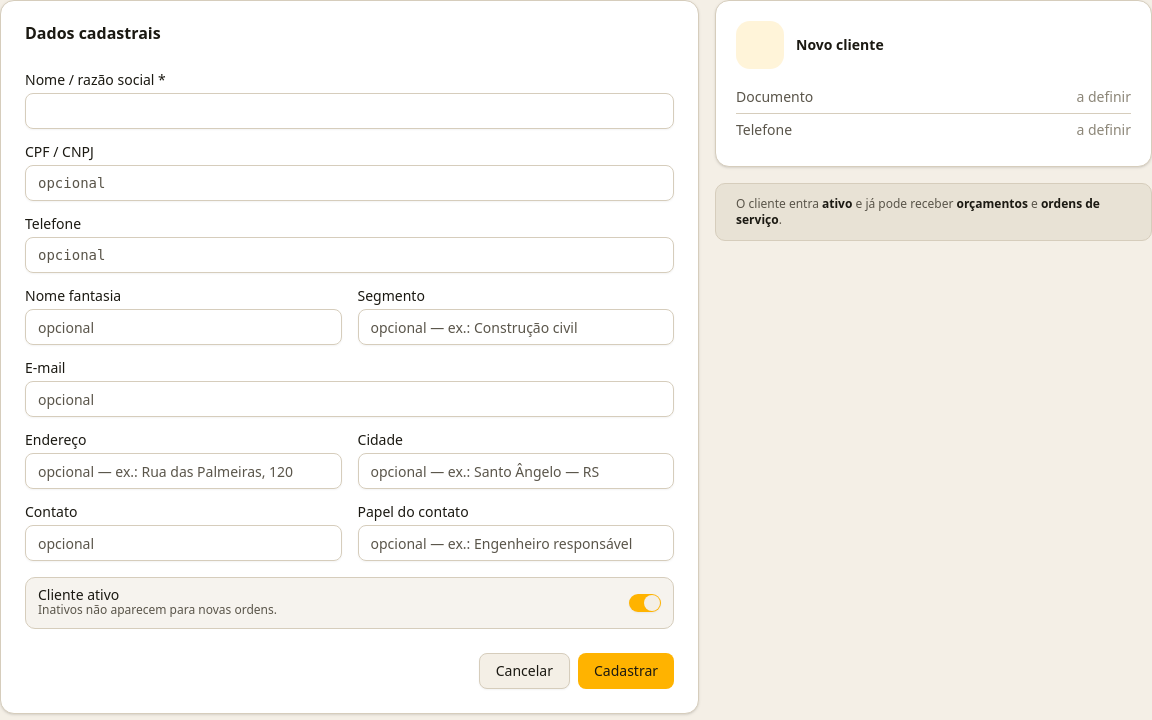
Test: ClienteForm › na criação mostra o resumo ao vivo e atualiza ao digitar
Expected: the text "Novo cliente" is shown, [796,35,884,55]
Expected: the text "a definir" is shown 2 times, [1076,87,1131,107]; [1076,120,1131,140]
Type "Construtora Vale Verde" into the field labelled "Nome / razão social *" at (350, 111), box [25,93,674,129]
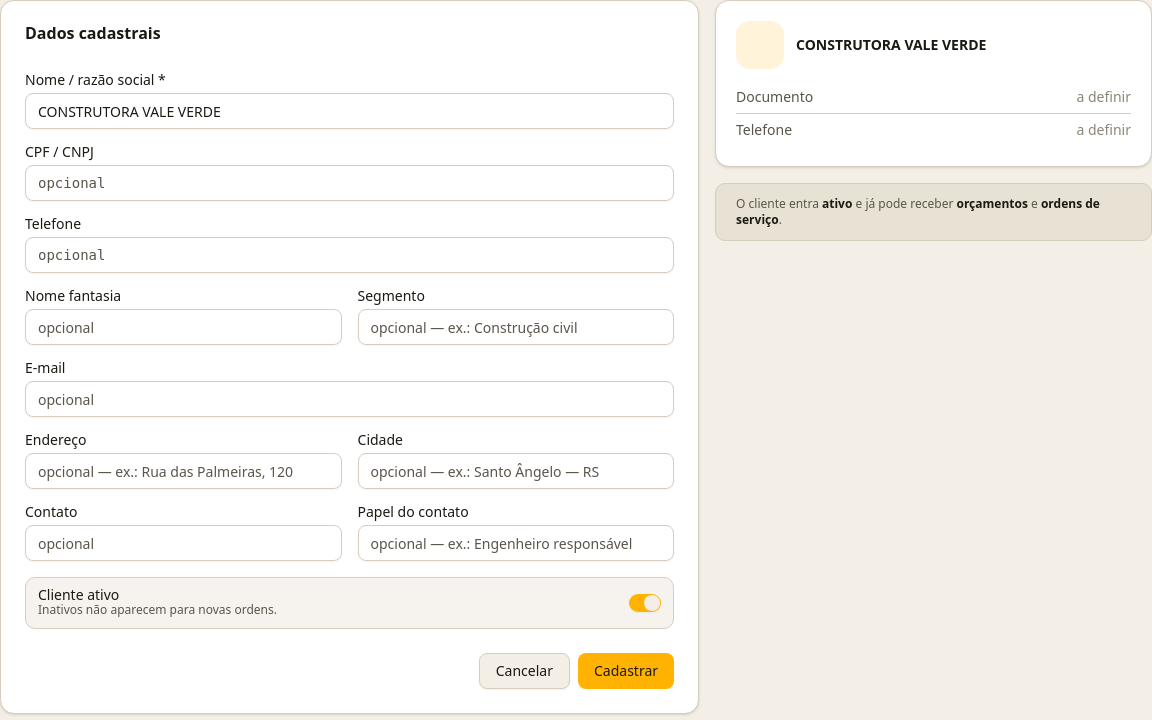
Type "44999990000" into the field labelled "Telefone" at (350, 255), box [25,237,674,273]
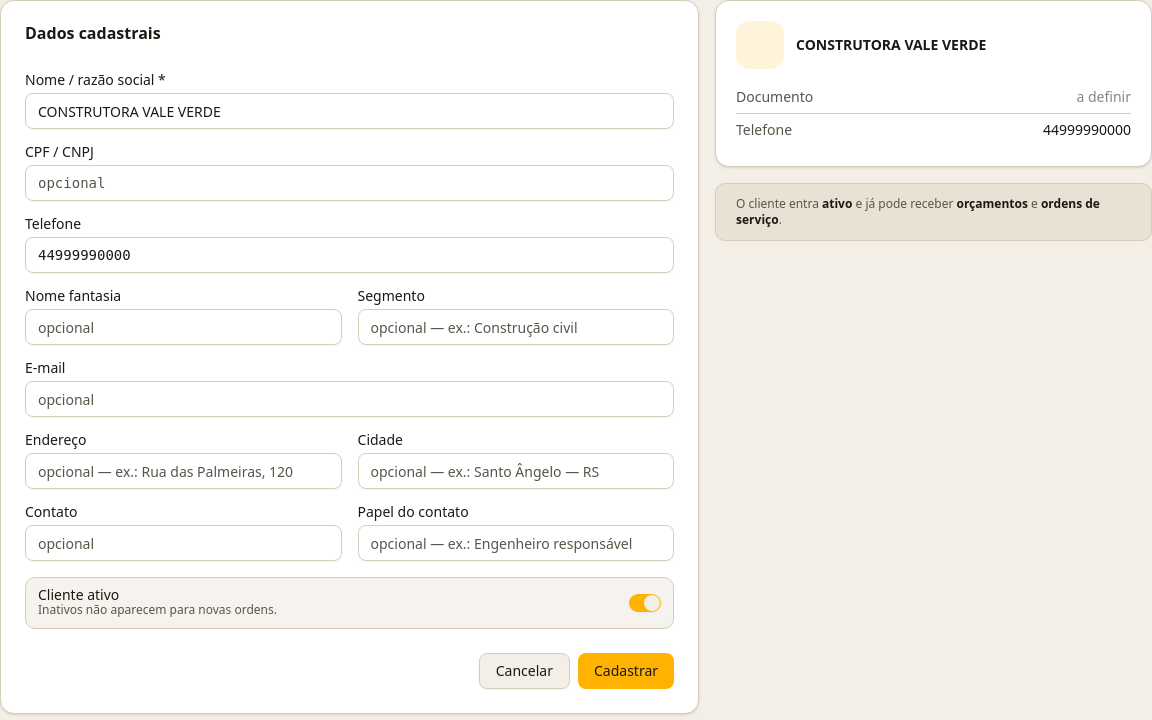
Now the text "CONSTRUTORA VALE VERDE" is shown, box [796,35,986,55]
Now the text "44999990000" is shown, box [1043,120,1131,140]
